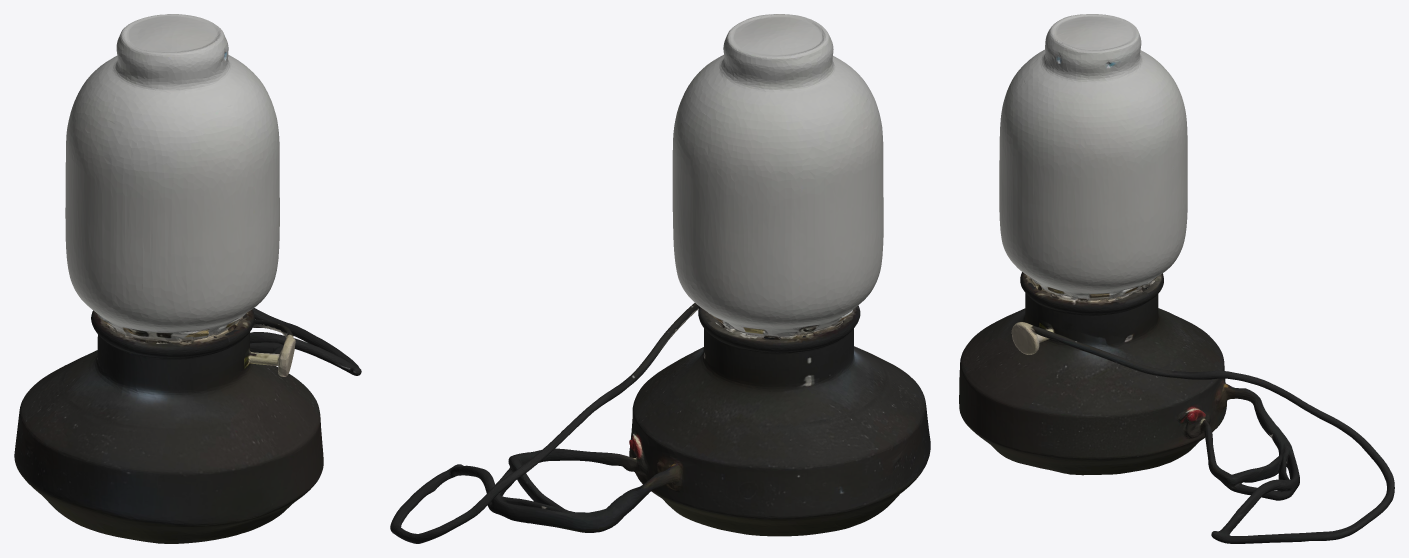
File: c02_lamp_s0.glb
3 renders of one model, left to right at view 1: azimuth 30°, elevation 25°; view 2: azimuth 150°, elevation 25°; view 3: azimuth 270°, elevation 25°, orthographic. The views are drawn at different scales.
Parts seen in each view (by area): view 1: textured.obj; view 2: textured.obj; view 3: textured.obj.
Boxes of the visible parts, x1,y1,x2,y2 form: textured.obj: (14, 14, 361, 543); textured.obj: (390, 14, 930, 543); textured.obj: (959, 14, 1394, 543).
Size of the model in its own units: 1.81 by 1.99 by 1.95.
1 material, 1 textured.
